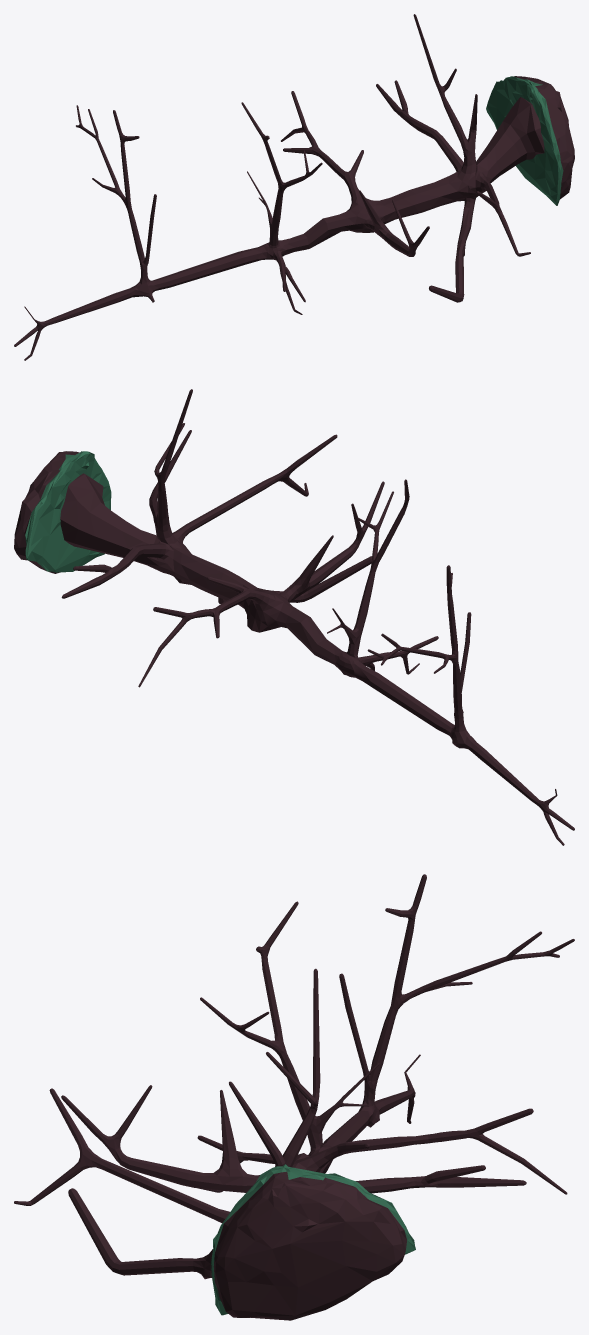
The model's file is fallenTree.glb.
3 views of the same model, one above another, from view 1: azimuth 30°, elevation 25°; view 2: azimuth 150°, elevation 25°; view 3: azimuth 270°, elevation 25° (orthographic). The views are drawn at different scales.
Visible parts, largest first — view 1: tree1.021, Cube.024; view 2: tree1.021, Cube.024; view 3: tree1.021, Cube.024.
Part boxes in pixels (bbox=[...]): tree1.021: bbox=[14, 14, 544, 360]; Cube.024: bbox=[486, 76, 574, 205]; tree1.021: bbox=[60, 389, 574, 845]; Cube.024: bbox=[14, 451, 111, 573]; tree1.021: bbox=[14, 874, 574, 1279]; Cube.024: bbox=[211, 1164, 415, 1320].
Size of the model in its own units: 11.95 by 6.47 by 8.24.
Materials: 1 (1 with a texture image).
